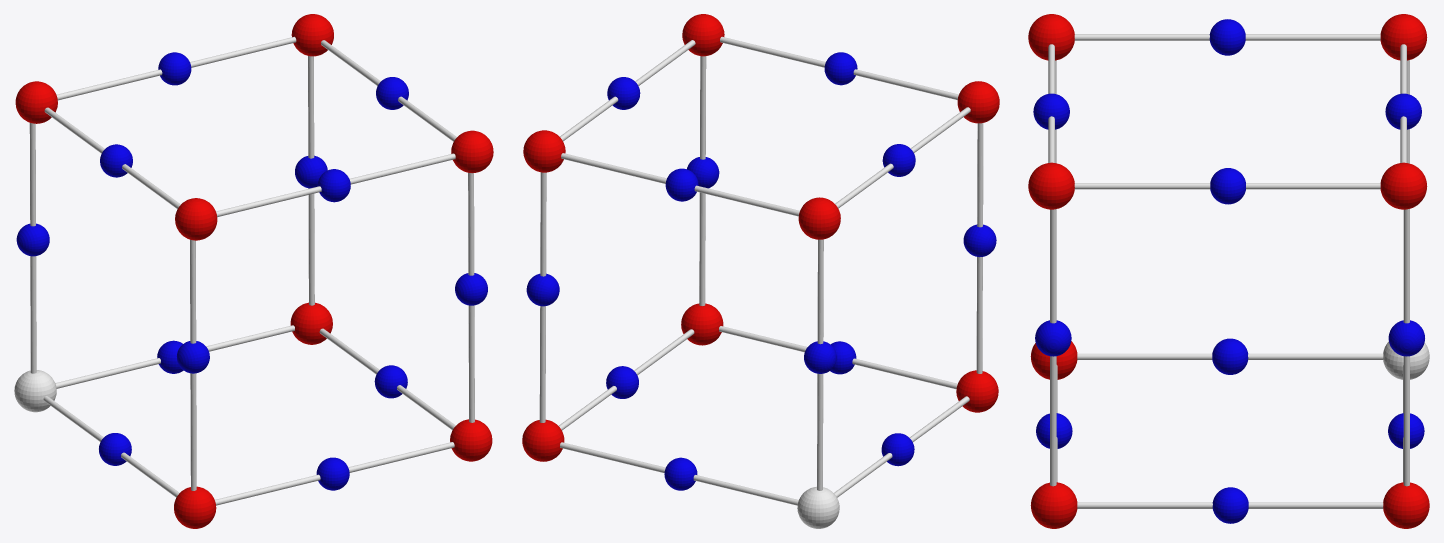
3 renders of one model, left to right at view 1: azimuth 30°, elevation 25°; view 2: azimuth 150°, elevation 25°; view 3: azimuth 270°, elevation 25°, orthographic. The views are drawn at different scales.
Parts seen in each view (by area): view 1: Sphere.007, Sphere.020, Sphere.003, Sphere.006, Sphere.015, Sphere.010, Sphere.017, Sphere.008, Sphere.004, Sphere.022, Sphere.030, Sphere.024 (+24 smaller); view 2: Sphere.015, Sphere.017, Sphere.010, Sphere.008, Sphere.007, Sphere.003, Sphere.020, Sphere.006, Sphere.021, Sphere.028, Sphere.016, Sphere.009 (+24 smaller); view 3: Sphere.017, Sphere.020, Sphere.008, Sphere.006, Sphere.015, Sphere.007, Sphere.011, Sphere.014, Sphere.018, Sphere.019, Sphere.022, Sphere.028 (+18 smaller).
Boxes of the visible parts, left/top/right/bottom form: Sphere.007: left=175, top=198, right=217, bottom=240; Sphere.020: left=451, top=130, right=493, bottom=173; Sphere.003: left=174, top=486, right=216, bottom=528; Sphere.006: left=450, top=419, right=492, bottom=461; Sphere.015: left=15, top=81, right=57, bottom=123; Sphere.010: left=14, top=370, right=56, bottom=412; Sphere.017: left=291, top=14, right=333, bottom=56; Sphere.008: left=290, top=302, right=332, bottom=344; Sphere.004: left=316, top=457, right=349, bottom=490; Sphere.022: left=455, top=273, right=487, bottom=305; Sphere.030: left=16, top=223, right=49, bottom=256; Sphere.024: left=176, top=341, right=209, bottom=373; Sphere.015: left=798, top=197, right=840, bottom=239; Sphere.017: left=523, top=130, right=565, bottom=172; Sphere.010: left=797, top=486, right=839, bottom=528; Sphere.008: left=522, top=419, right=564, bottom=461; Sphere.007: left=957, top=81, right=999, bottom=123; Sphere.003: left=956, top=370, right=998, bottom=412; Sphere.020: left=682, top=14, right=724, bottom=56; Sphere.006: left=681, top=303, right=723, bottom=345; Sphere.021: left=824, top=52, right=857, bottom=85; Sphere.028: left=526, top=273, right=559, bottom=306; Sphere.016: left=665, top=168, right=698, bottom=201; Sphere.009: left=664, top=457, right=697, bottom=490; Sphere.017: left=1380, top=162, right=1427, bottom=209; Sphere.020: left=1028, top=162, right=1074, bottom=209; Sphere.008: left=1383, top=482, right=1429, bottom=528; Sphere.006: left=1030, top=482, right=1077, bottom=528; Sphere.015: left=1380, top=14, right=1427, bottom=60; Sphere.007: left=1028, top=14, right=1074, bottom=60; Sphere.011: left=1212, top=487, right=1248, bottom=523; Sphere.014: left=1212, top=338, right=1248, bottom=374; Sphere.018: left=1210, top=168, right=1245, bottom=204; Sphere.019: left=1209, top=19, right=1245, bottom=55; Sphere.022: left=1035, top=320, right=1071, bottom=356; Sphere.028: left=1388, top=320, right=1424, bottom=356.
Size of the model in its own units: 17 by 17.01 by 17.11.
